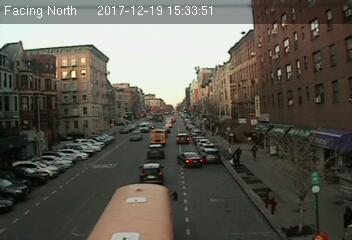car: (137, 163, 165, 184), (177, 152, 203, 168), (146, 144, 165, 159), (202, 147, 219, 163), (128, 130, 142, 142), (175, 133, 189, 143)
pedestrian: (250, 143, 259, 161)
truck: (150, 128, 167, 144)
